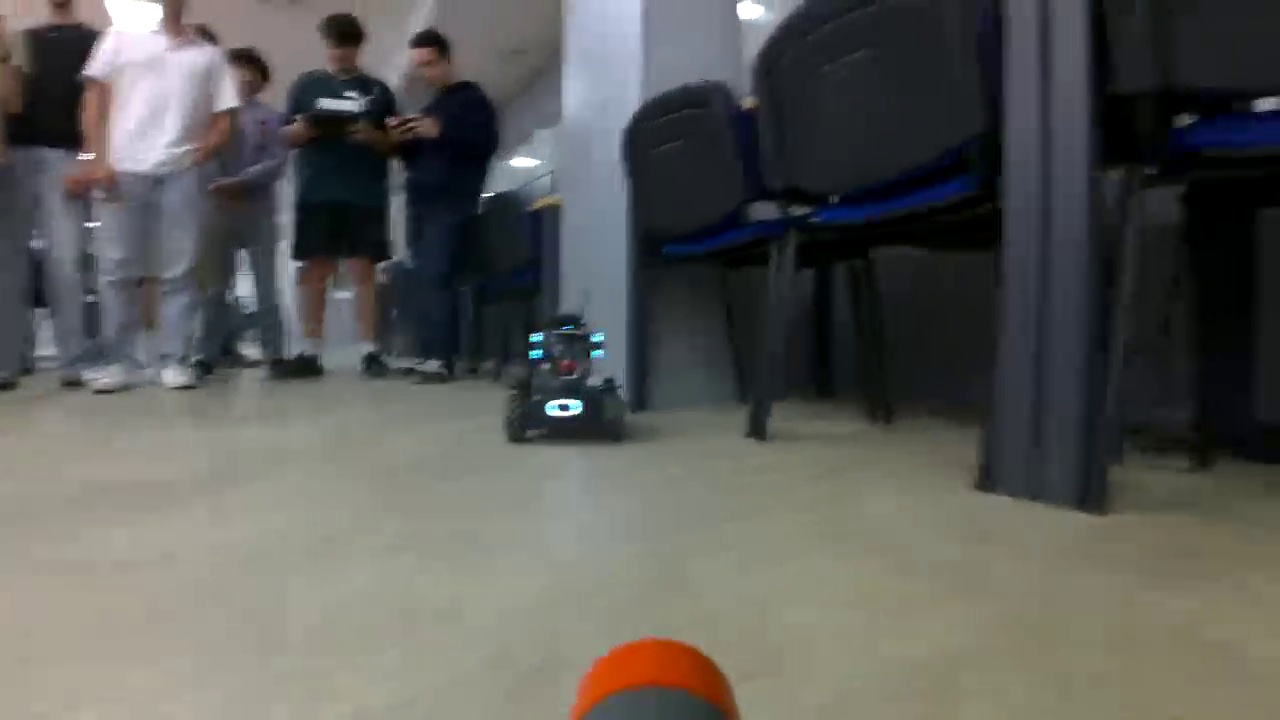robot: (504, 316, 627, 444)
